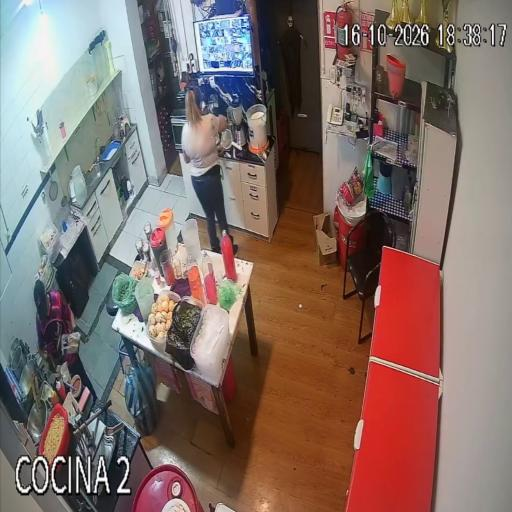Envase Ketchup: (57, 380, 66, 400)
Envase Llajua: (48, 388, 61, 405)
Jarra1: (150, 228, 166, 274)
Jarra2: (158, 208, 174, 247)
Jarra3: (173, 214, 191, 264)
Microondas: (171, 109, 186, 150)
Persona2: (33, 280, 96, 402)
Persona3: (181, 90, 229, 250)
Taper: (40, 225, 60, 261)
Taper2: (166, 296, 203, 370)
Taper3: (190, 304, 230, 384)
Taper4: (146, 290, 182, 352)
olla1: (19, 358, 38, 401)
